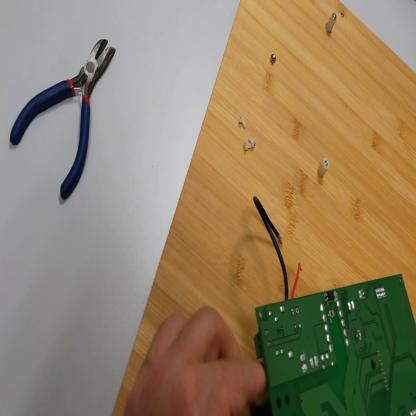hand: (124, 303, 270, 415)
low voltage board: (254, 197, 416, 416)
pliers: (10, 37, 114, 203)
working area: (114, 2, 416, 413)
